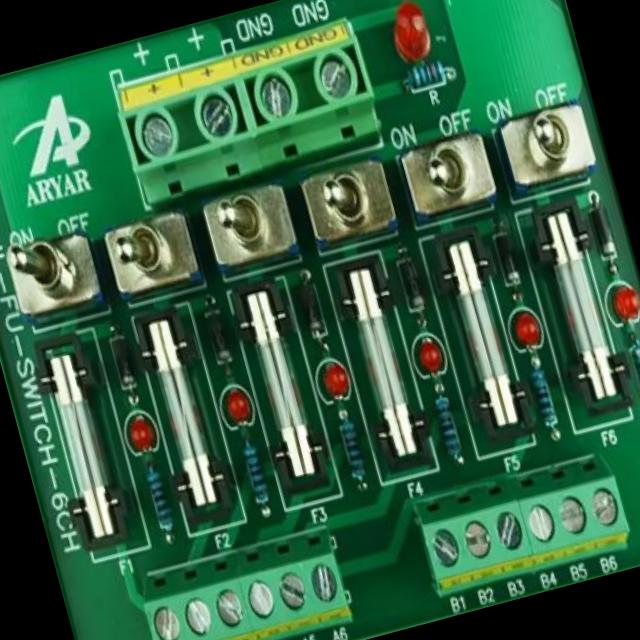LED: (383, 0, 441, 62), (603, 273, 640, 325), (122, 410, 162, 458), (507, 300, 546, 349), (220, 382, 254, 427), (320, 359, 354, 404), (412, 331, 443, 373)
connector: (106, 6, 390, 210), (403, 443, 640, 620), (131, 533, 366, 640)
diode: (100, 326, 144, 400), (296, 282, 331, 346), (200, 306, 236, 362), (588, 200, 621, 260), (394, 256, 430, 310), (492, 234, 522, 282)
resistor: (428, 386, 468, 466), (138, 460, 176, 533), (525, 364, 562, 426), (333, 410, 368, 474), (405, 52, 452, 95), (241, 442, 272, 507), (619, 329, 640, 417)
